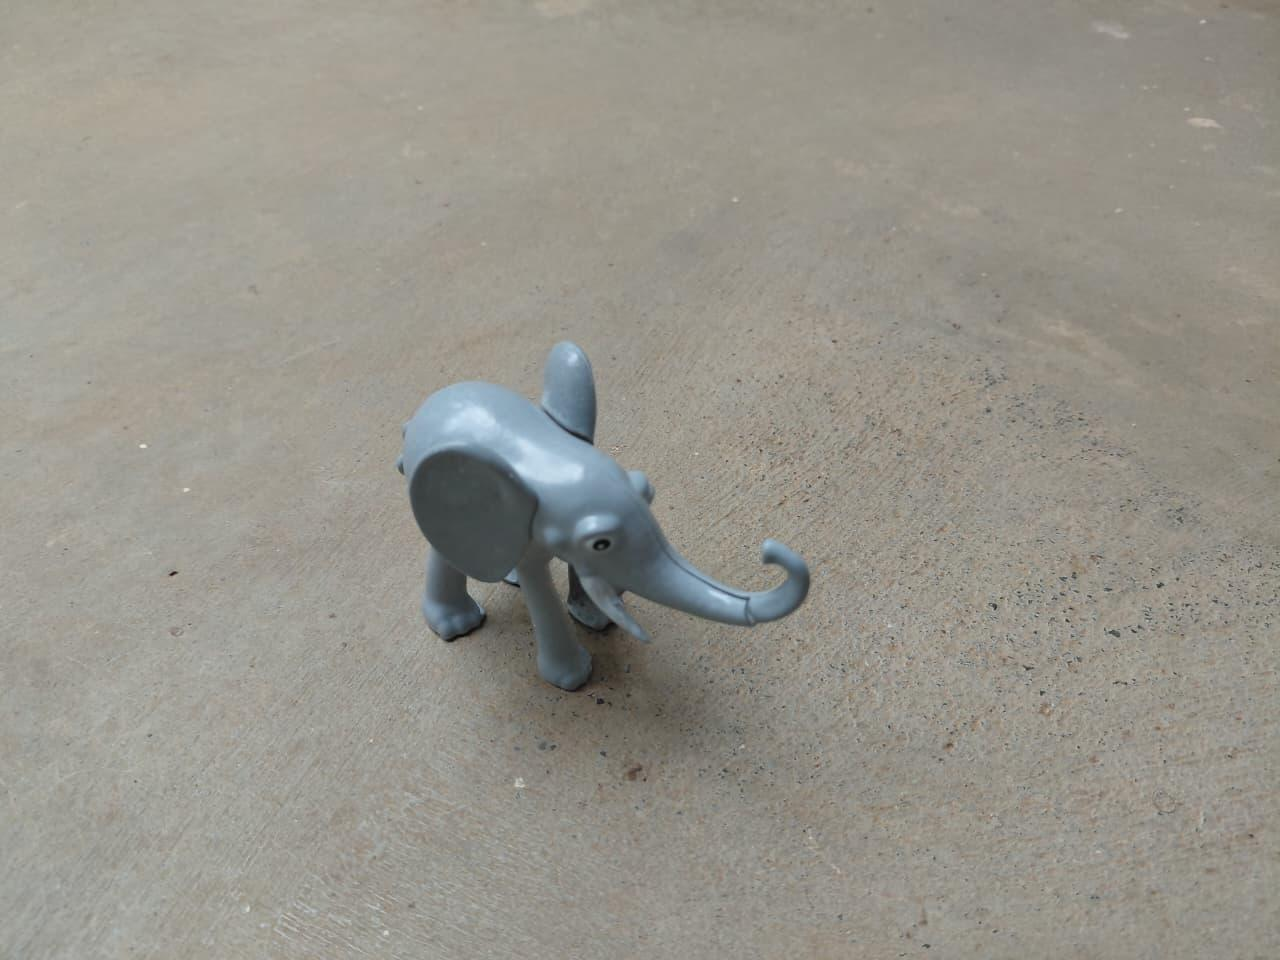elephant: (342, 319, 863, 730)
